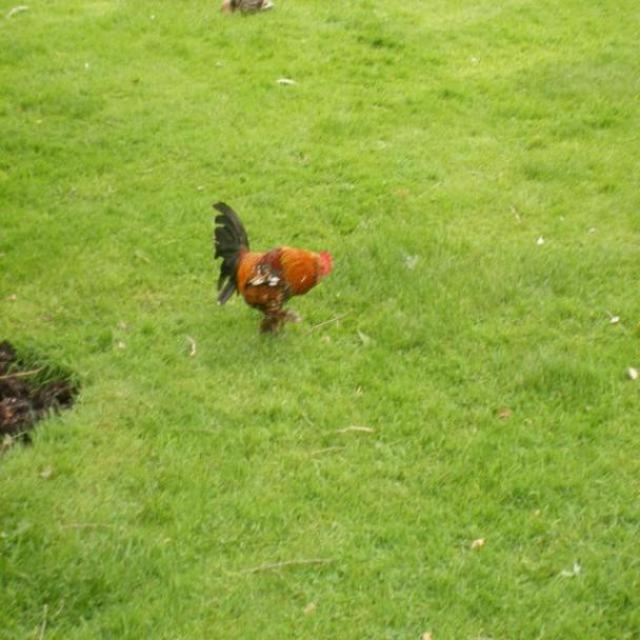Chicken: (207, 207, 334, 338)
